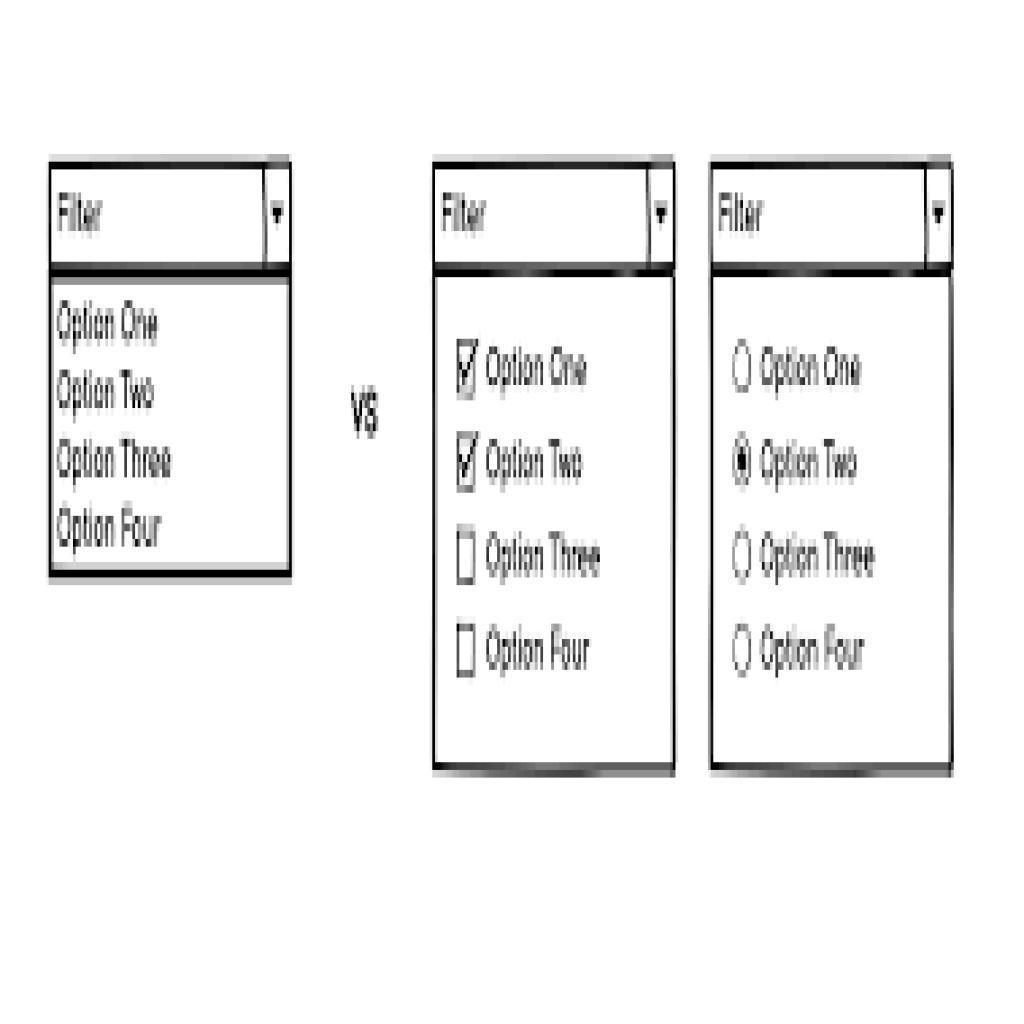checkbox: (456, 432, 479, 490), (458, 340, 479, 399), (459, 531, 478, 581), (459, 627, 476, 671)
dropdown: (50, 162, 293, 272), (433, 163, 676, 272), (710, 161, 955, 265)
label: (487, 527, 605, 582), (759, 532, 884, 582), (481, 623, 594, 675), (762, 624, 868, 675), (757, 440, 863, 489), (757, 343, 868, 389), (490, 439, 590, 488), (485, 349, 591, 393)
radio: (730, 524, 756, 592), (730, 338, 756, 397), (732, 620, 755, 680), (734, 432, 754, 490)
